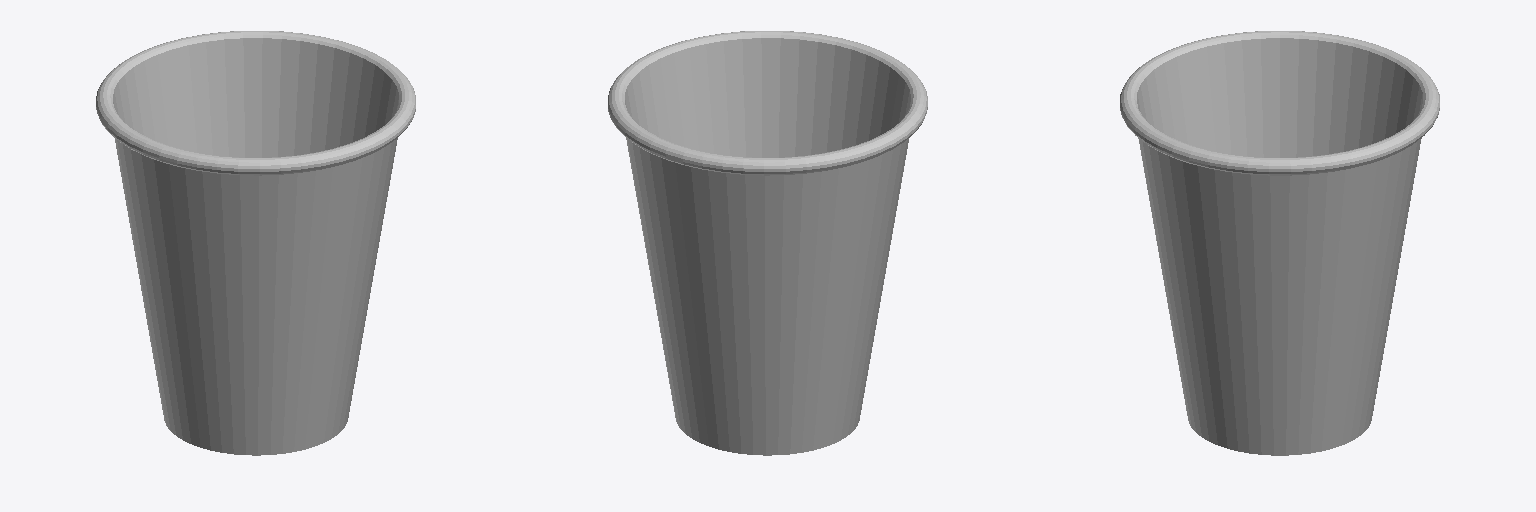
3 views of the same model, side by side, from view 1: azimuth 30°, elevation 25°; view 2: azimuth 150°, elevation 25°; view 3: azimuth 270°, elevation 25° (orthographic).
Parts seen in each view (by area): view 1: outsideShape, insideShape; view 2: outsideShape, insideShape; view 3: outsideShape, insideShape.
Boxes of the visible parts, <box> form: outsideShape: <box>115,138,397,455</box>; insideShape: <box>96,31,415,175</box>; outsideShape: <box>626,138,908,455</box>; insideShape: <box>608,31,927,175</box>; outsideShape: <box>1138,138,1421,455</box>; insideShape: <box>1120,31,1439,175</box>.
Bounding box in the file's own units: 0.8691 × 0.9606 × 0.8695.